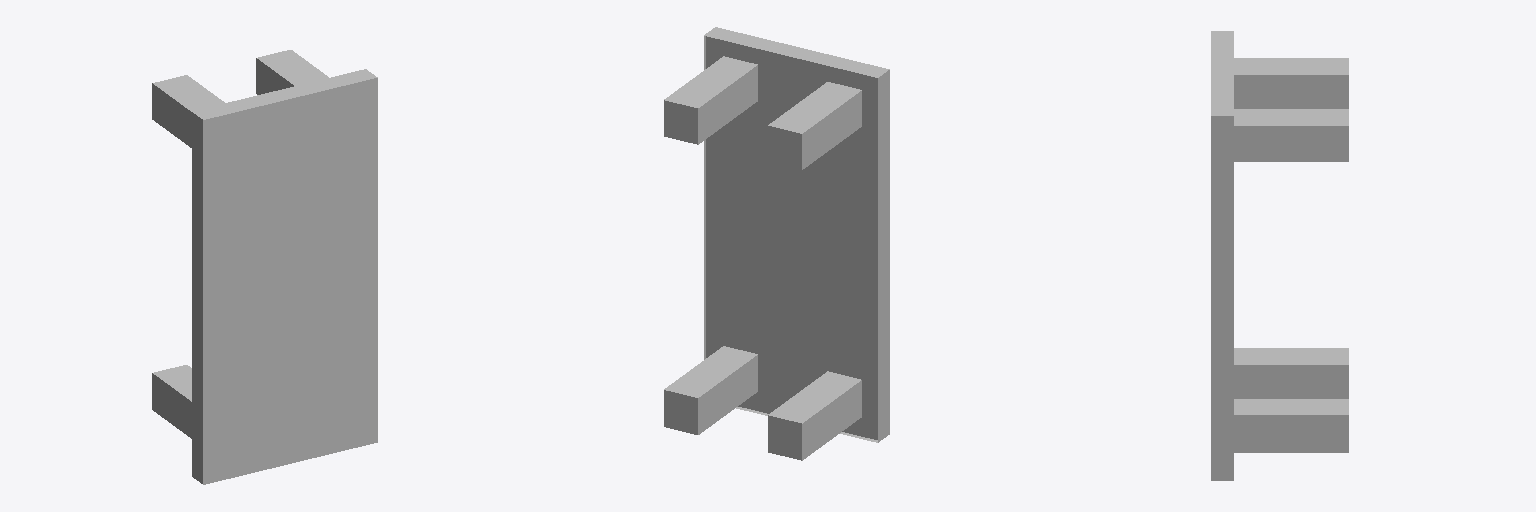
The model's file is SimpleTable.obj.
The picture shows the model from 3 angles: view 1: azimuth 30°, elevation 25°; view 2: azimuth 150°, elevation 25°; view 3: azimuth 270°, elevation 25°; orthographic projection.
Visible parts, largest first — view 1: Cube; view 2: Cube; view 3: Cube.
Boxes of the visible parts, x1=… form: Cube: x1=152, y1=50, x2=377, y2=484; Cube: x1=664, y1=27, x2=889, y2=460; Cube: x1=1211, y1=31, x2=1348, y2=480.
Size of the model in its own units: 1.01 by 2.01 by 0.693.